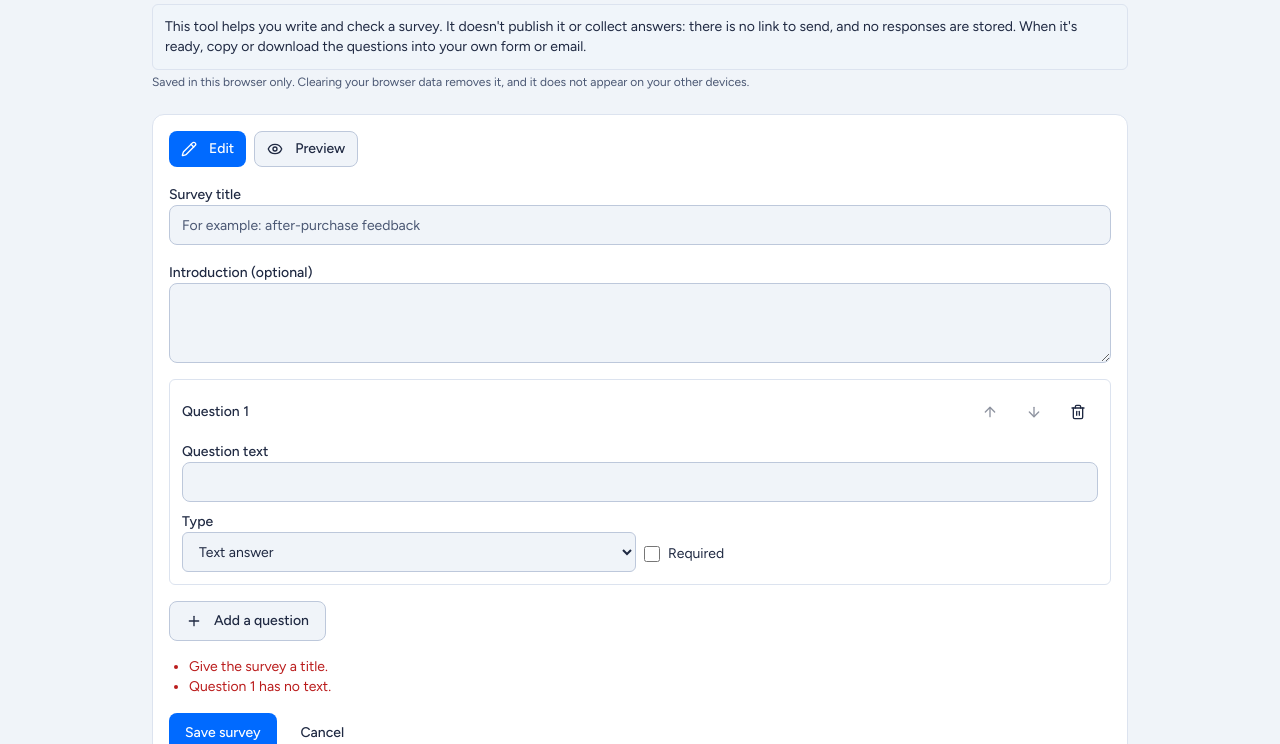
Customer Survey Builder (Phase 38) › says plainly it does not collect answers; no Publish; reorder, required, preview, save in the browser
Earlier steps of the test are not shown.
expect the message shows "Give the survey a title.": met, box [189,658,328,675]
Type "Feedback" into the field labelled "Survey title".
click(640, 225); type("Feedback")  # box [169,205,1111,245]
Type "First?" into the field labelled "Question text".
click(640, 482); type("First?")  # box [182,462,1098,502]
Click the button "Add a question".
click(247, 621)  # box [169,601,326,641]
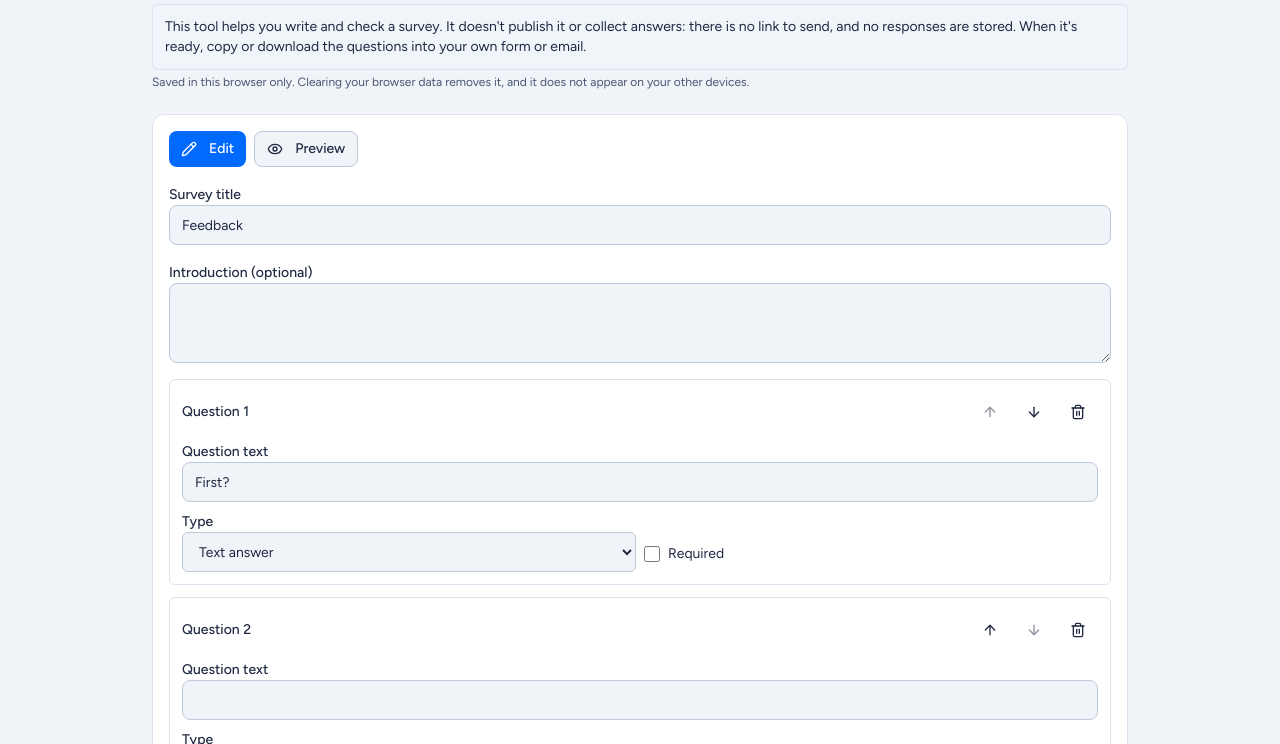
Type "Second?" into the 2nd field labelled "Question text".
click(640, 700); type("Second?")  # box [182,680,1098,720]
(page scrolled)
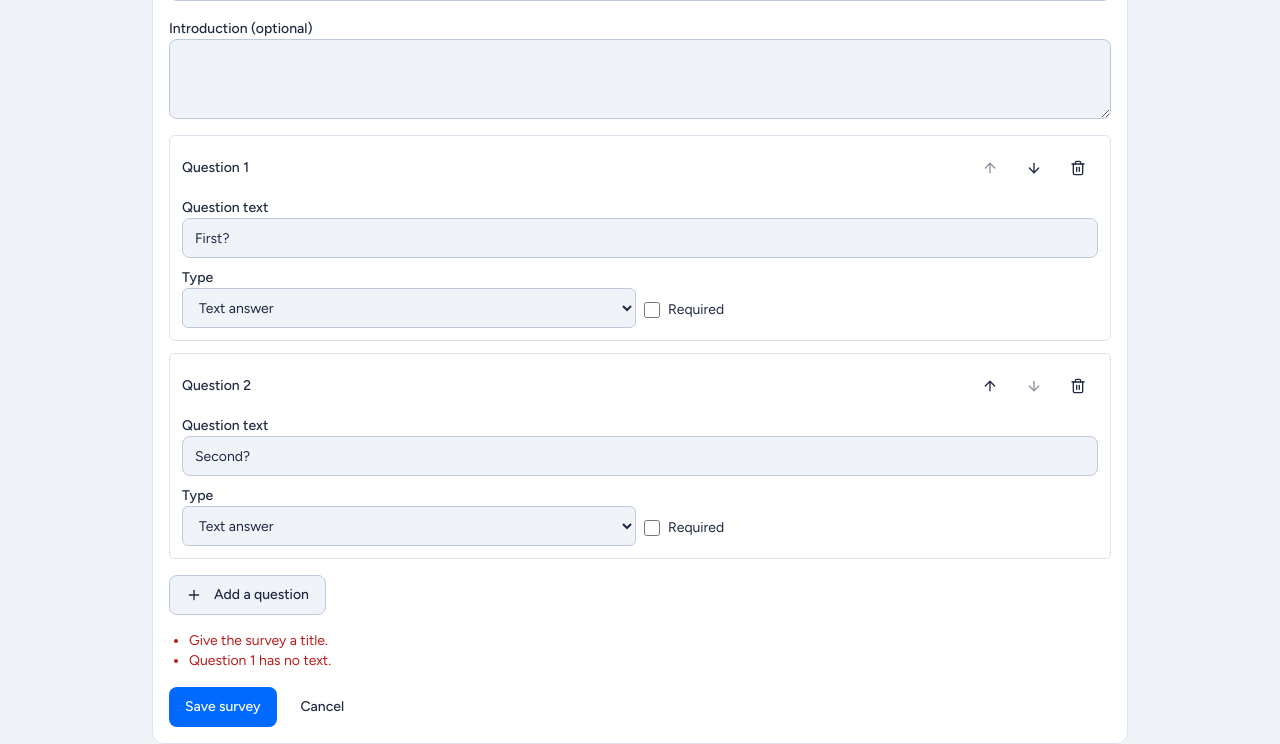
Click the 2nd checkbox labelled "Required".
click(652, 528)  # box [644,520,660,536]
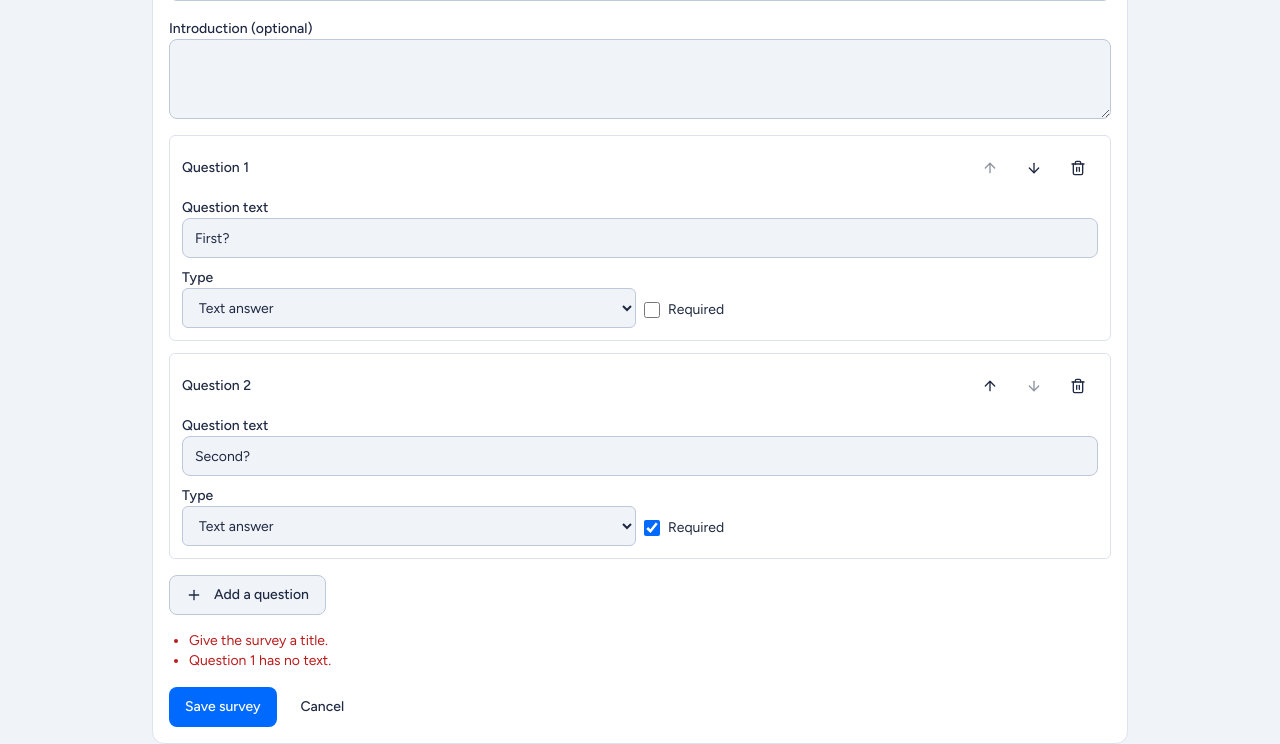
Click the button named "Move question 2 up".
click(990, 386)  # box [970,366,1010,406]
(page scrolled)
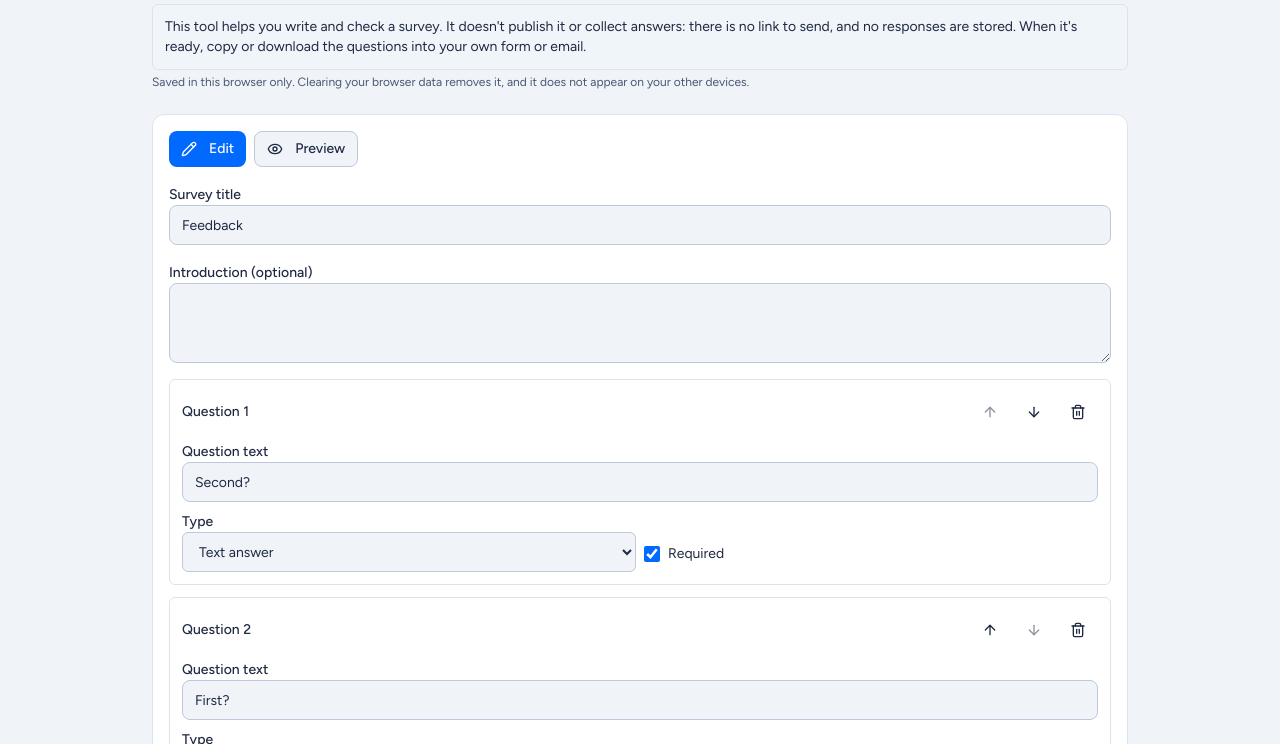
Click the button "Preview".
click(306, 149)  # box [254,131,358,167]
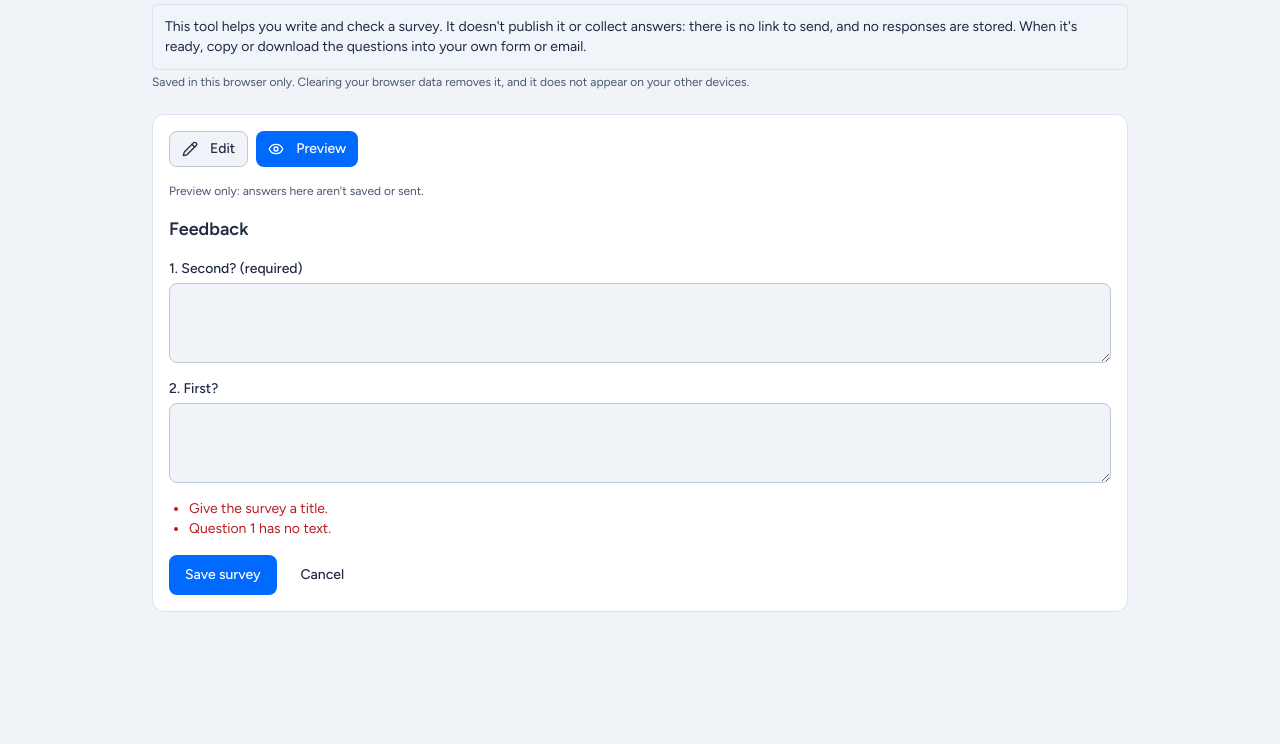
expect the element with test id "survey-preview" shows "1. Second? (required)": met, box [169,183,1111,483]
Click the button "Save survey".
click(223, 575)  # box [169,555,276,595]
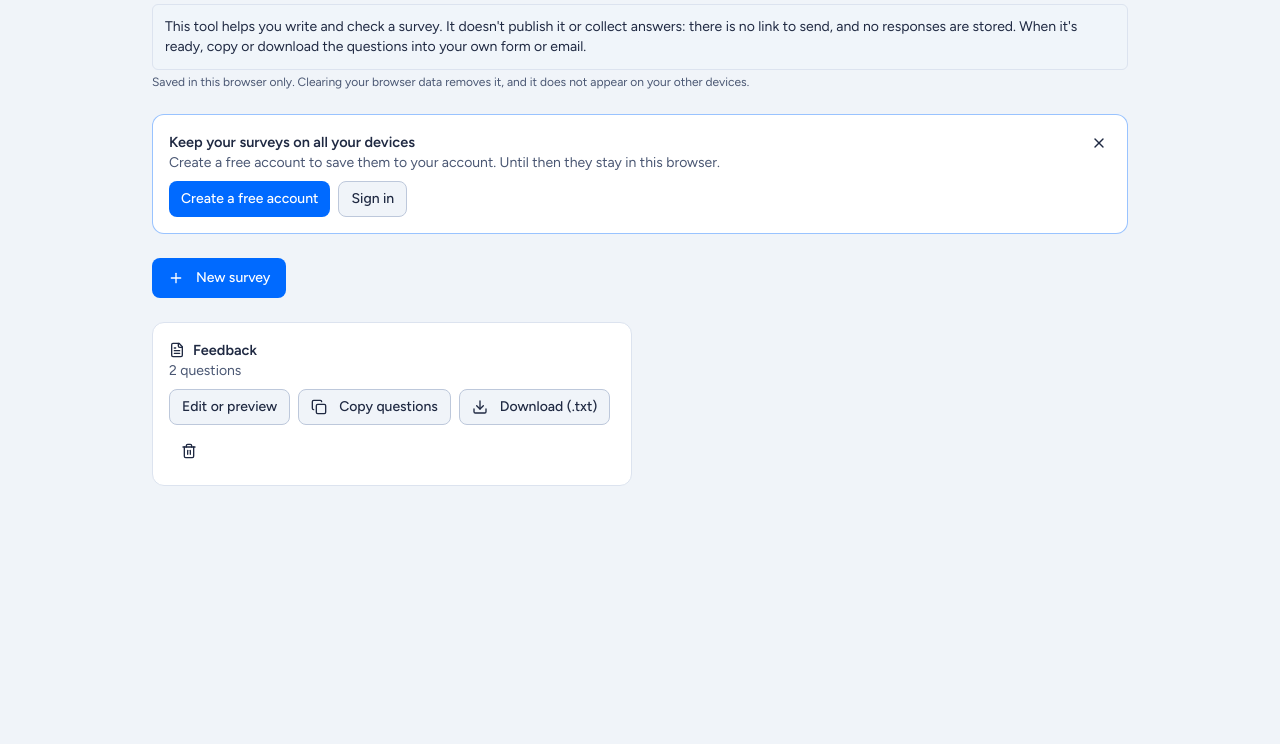
expect the list item with test id "survey-card" shows "2 questions": met, box [152,322,632,486]
